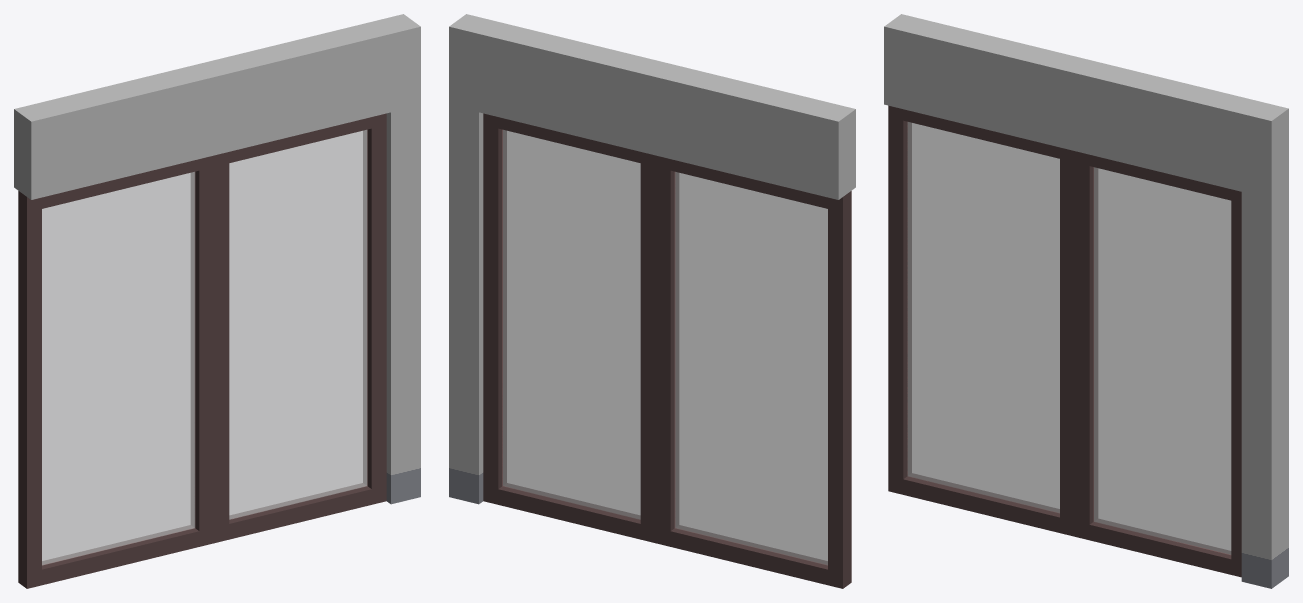
File: Window_Edge.fbx
The picture shows the model from 3 angles, left to right: view 1: azimuth 30°, elevation 25°; view 2: azimuth 150°, elevation 25°; view 3: azimuth 330°, elevation 25°; orthographic projection.
Visible parts, largest first — view 1: Window_Edge; view 2: Window_Edge; view 3: Window_Edge.
Part boxes in pixels (left/top/right/bottom): Window_Edge: left=14, top=14, right=420, bottom=588; Window_Edge: left=449, top=14, right=855, bottom=588; Window_Edge: left=884, top=14, right=1288, bottom=588.
Size of the model in its own units: 2.6 by 3 by 0.2.
